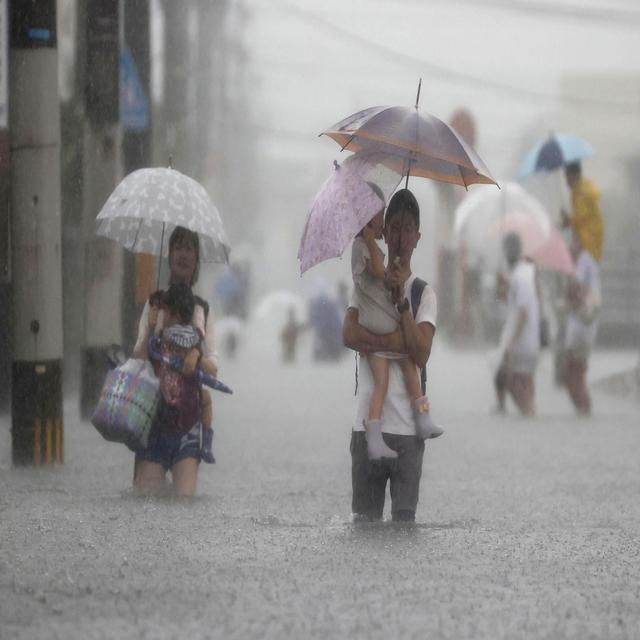Person-RiskLevel2: (85, 143, 233, 515), (322, 165, 441, 527), (484, 223, 541, 417), (557, 223, 604, 420)
